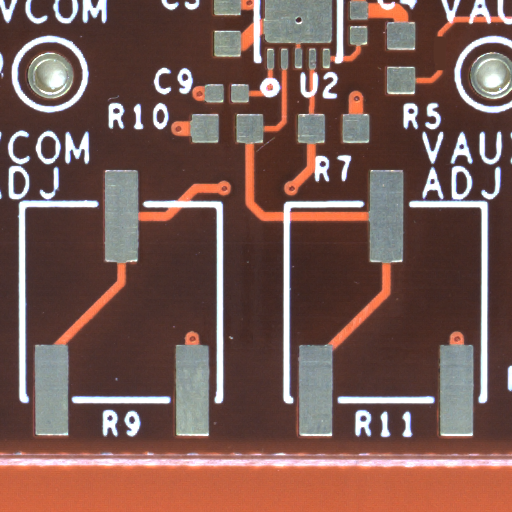Open_circuit: (439, 52, 454, 93)
